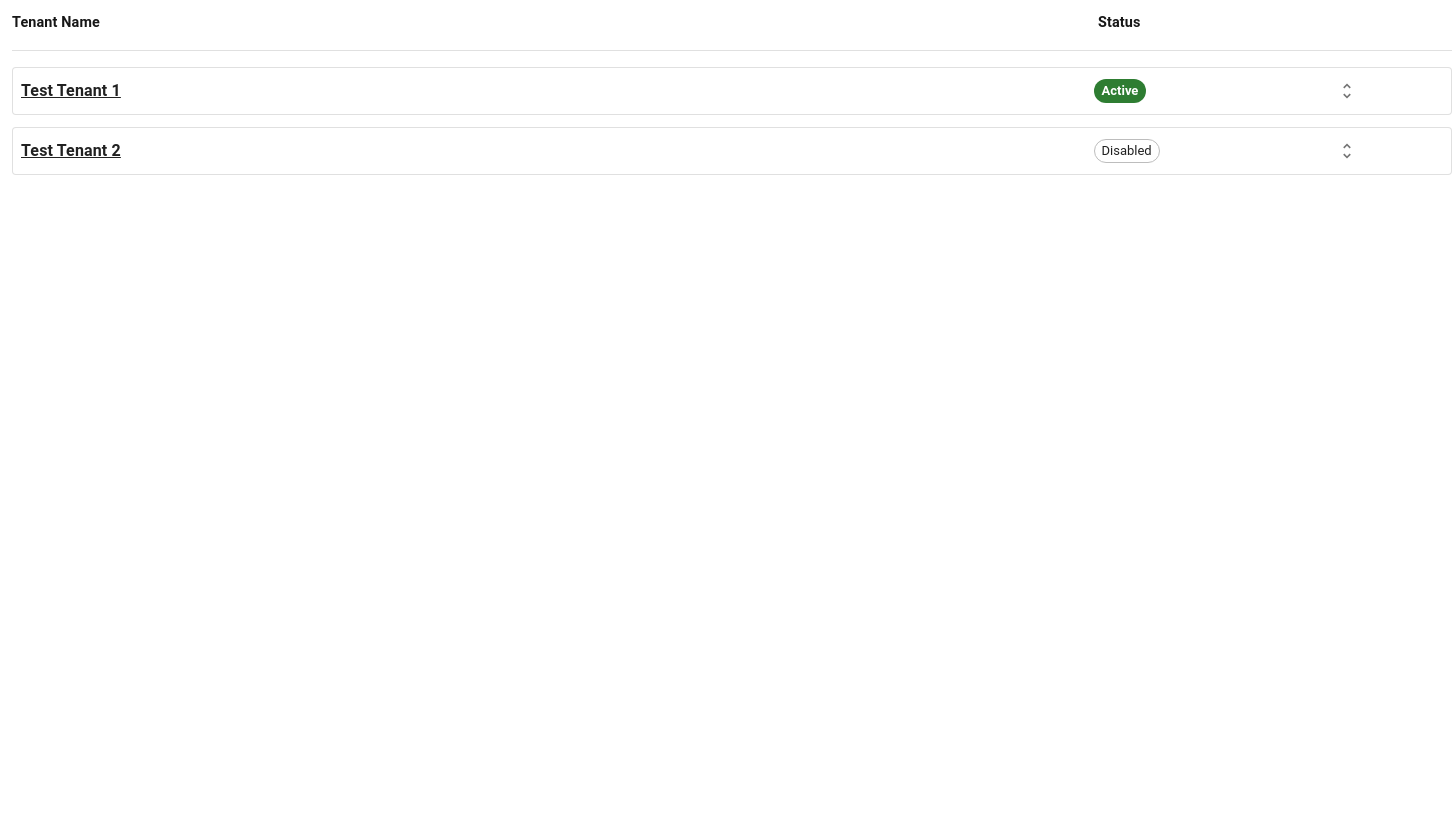
Test case: TenantResultList Component › Expand/Collapse Functionality (Medium Screen) › should handle multiple tenants being expanded simultaneously
Note: Expand first tenant
Click the button with test id "UnfoldMoreOutlinedIcon".
click(1347, 91)  # box [1332,76,1362,106]
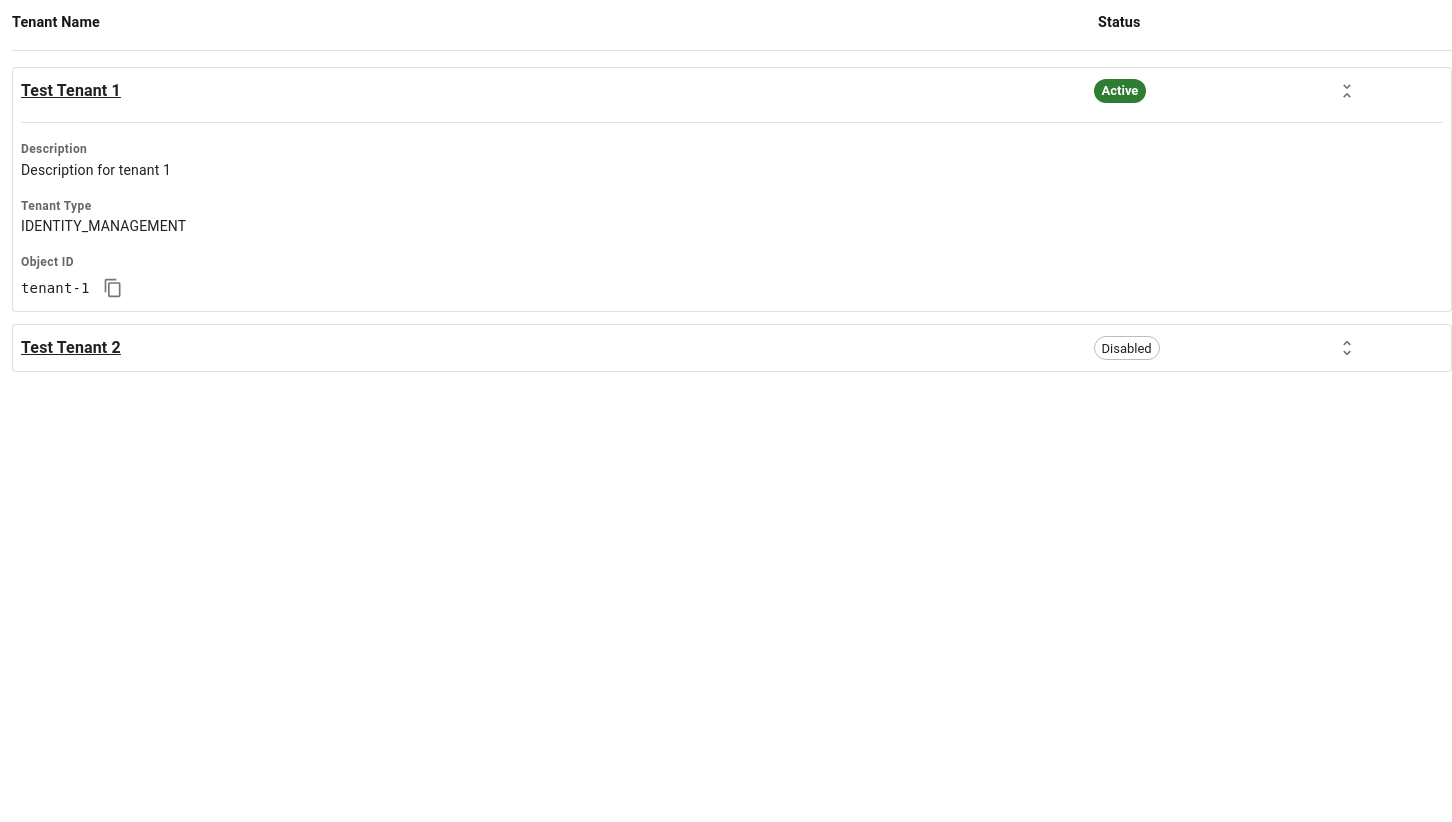
Result: the text "Description for tenant 1" is shown at [21,162,171,178]
Note: Expand second tenant
Click the button with test id "UnfoldMoreOutlinedIcon".
click(1347, 348)  # box [1332,333,1362,363]
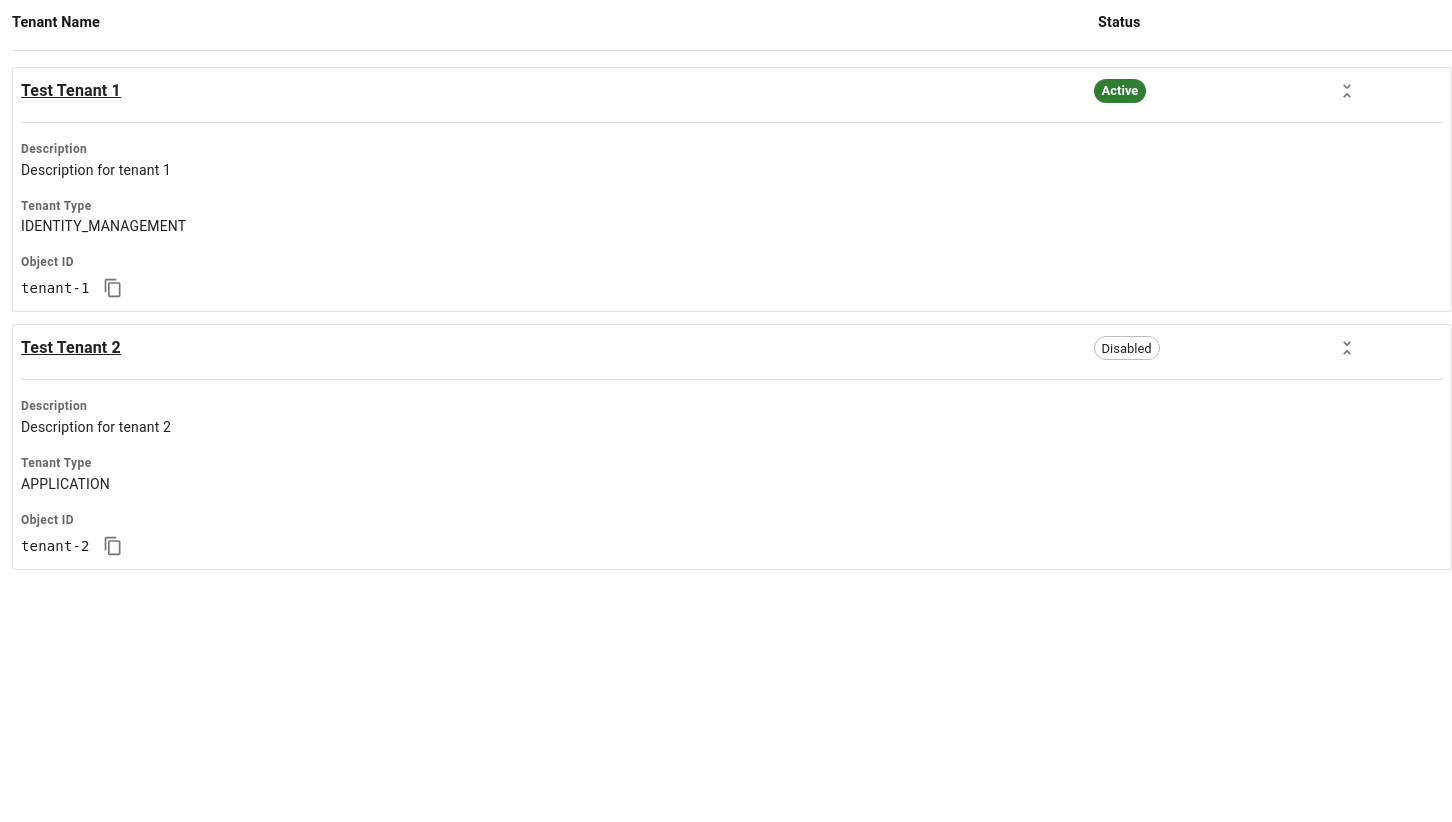
Result: the text "Description for tenant 1" is shown at [21,162,171,178]
Result: the text "Description for tenant 2" is shown at [21,419,171,435]
